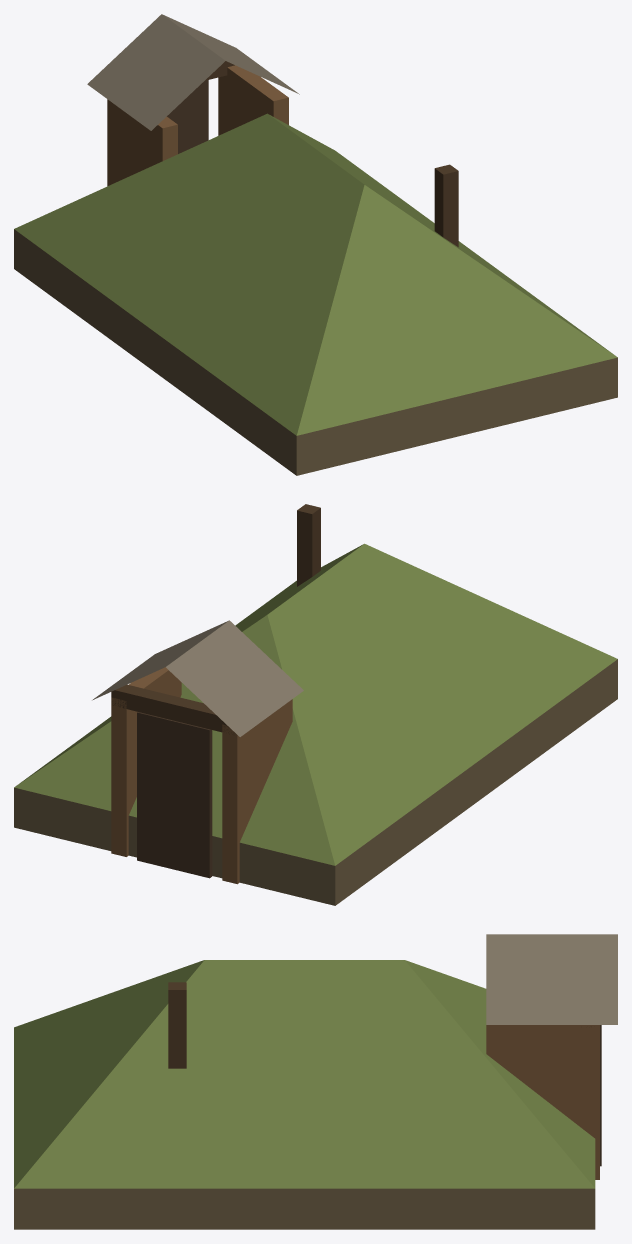
File: lyokh.glb
The picture shows the model from 3 angles, top to bottom: view 1: azimuth 30°, elevation 25°; view 2: azimuth 150°, elevation 25°; view 3: azimuth 270°, elevation 25°; orthographic projection. The views are drawn at different scales.
Visible parts, largest first — view 1: roof_west, roof_south, mound_foot, gate_roof_w, eave_s, gate_wall_w, gate_wall_e, roof_east, door_leaf, vent, gate_roof_e; view 2: roof_west, mound_foot, roof_north, door_leaf, gate_roof_w, gate_wall_w, gate_wall_e, gate_lintel, vent, gate_roof_e, roof_east; view 3: roof_east, mound_foot, roof_south, eave_e, gate_roof_e, gate_wall_e, roof_north, vent.
Part boxes in pixels (box(x1,y1,x2,y2)): roof_west: box(14, 113, 364, 435); roof_south: box(296, 185, 617, 435); mound_foot: box(14, 229, 617, 475); gate_roof_w: box(87, 14, 225, 130); eave_s: box(296, 357, 617, 455); gate_wall_w: box(107, 99, 177, 186); gate_wall_e: box(218, 65, 288, 135); roof_east: box(269, 114, 613, 354); door_leaf: box(167, 80, 208, 153); vent: box(434, 164, 458, 247); gate_roof_e: box(162, 14, 299, 94); roof_west: box(267, 543, 617, 865); mound_foot: box(14, 659, 617, 905); roof_north: box(14, 615, 335, 865); door_leaf: box(137, 712, 212, 878); gate_roof_w: box(166, 620, 303, 736); gate_wall_w: box(222, 699, 292, 884); gate_wall_e: box(111, 667, 181, 856); gate_lintel: box(111, 684, 237, 735); vent: box(297, 504, 320, 586); gate_roof_e: box(92, 620, 228, 700); roof_east: box(16, 544, 363, 785); roof_east: box(14, 960, 594, 1188); mound_foot: box(14, 1188, 595, 1229); roof_south: box(14, 960, 204, 1187); eave_e: box(14, 1188, 595, 1209); gate_roof_e: box(486, 934, 617, 1024); gate_wall_e: box(486, 1025, 599, 1179); roof_north: box(405, 960, 595, 1187); vent: box(168, 982, 186, 1068).
Bounding box in the file's own units: 4.2 × 2.6 × 6.65.
